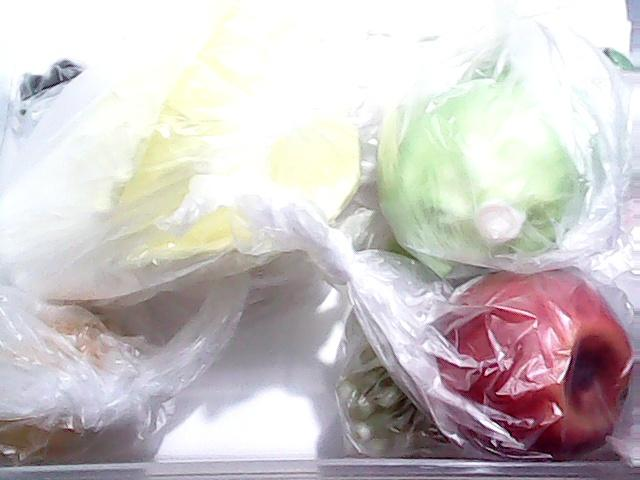apple: (445, 276, 623, 461)
cabbage: (388, 64, 608, 288)
grape: (326, 321, 458, 470), (11, 46, 104, 114)
napa cabbage: (0, 25, 366, 310)
potato: (2, 296, 146, 460)
